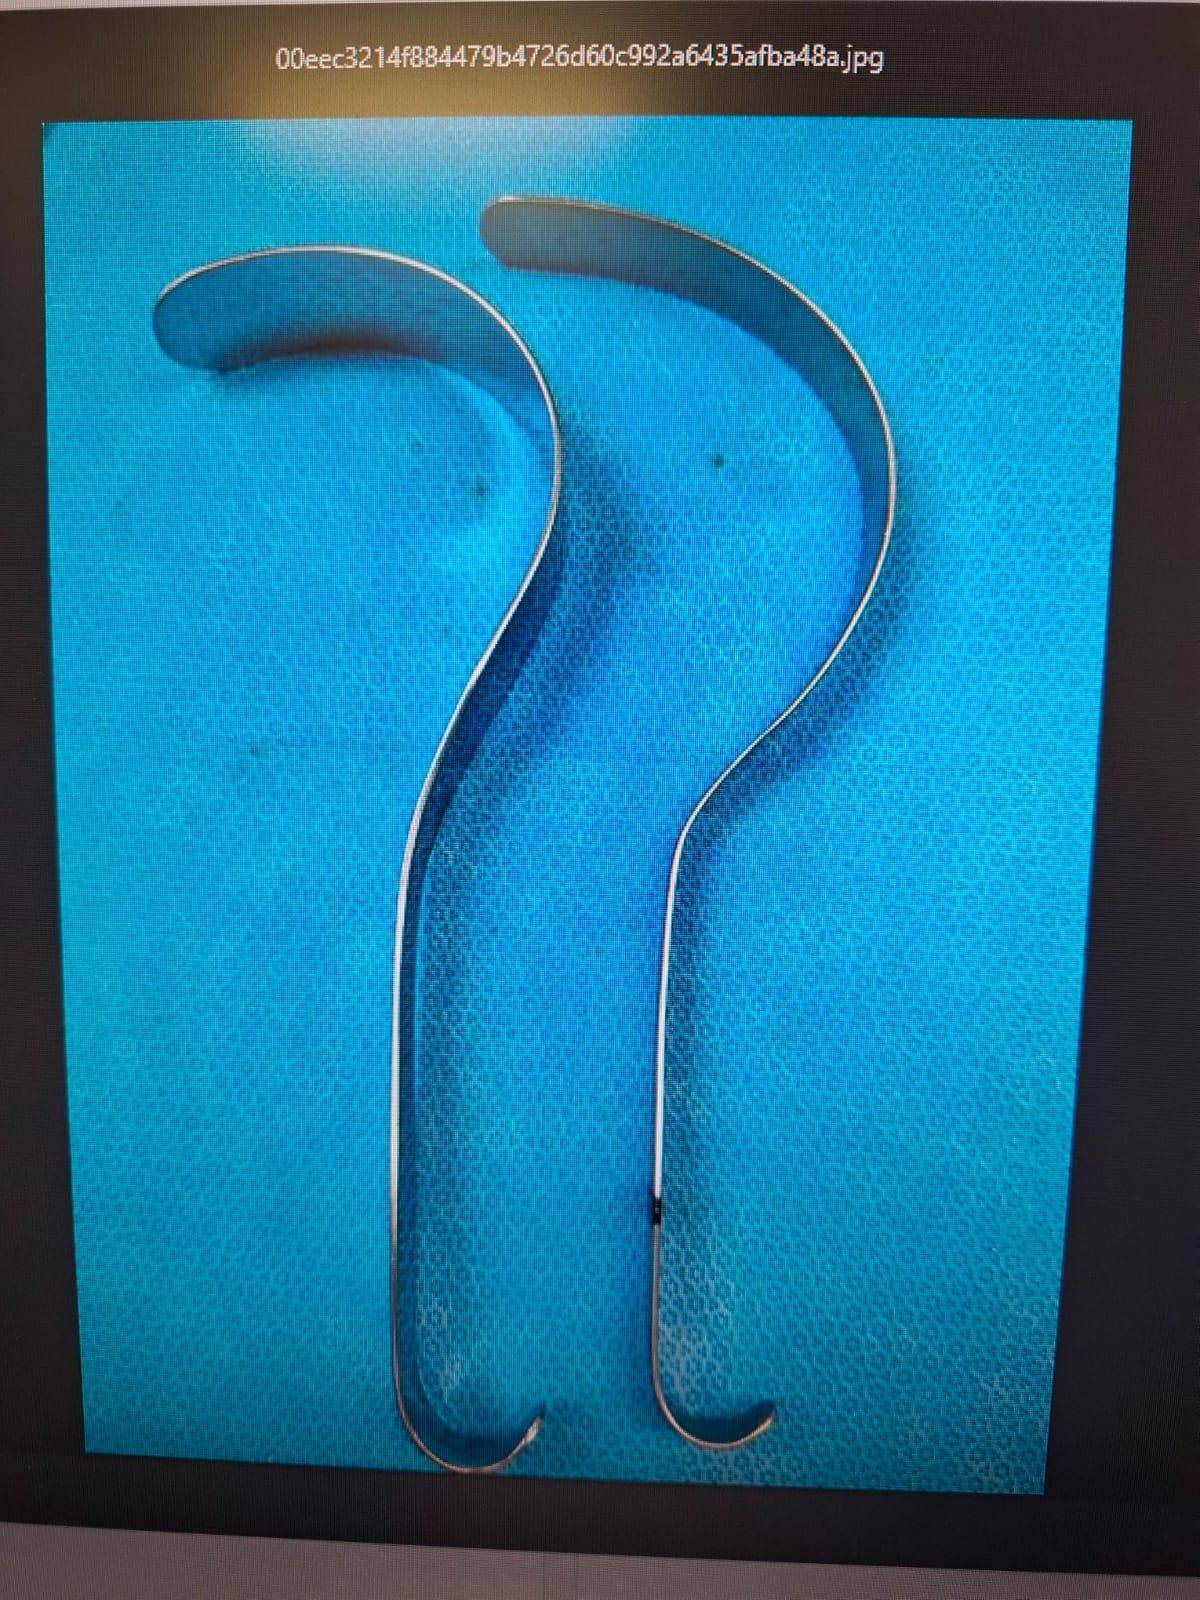Deaver Retractor: (463, 190, 925, 1468), (140, 228, 585, 1493)
